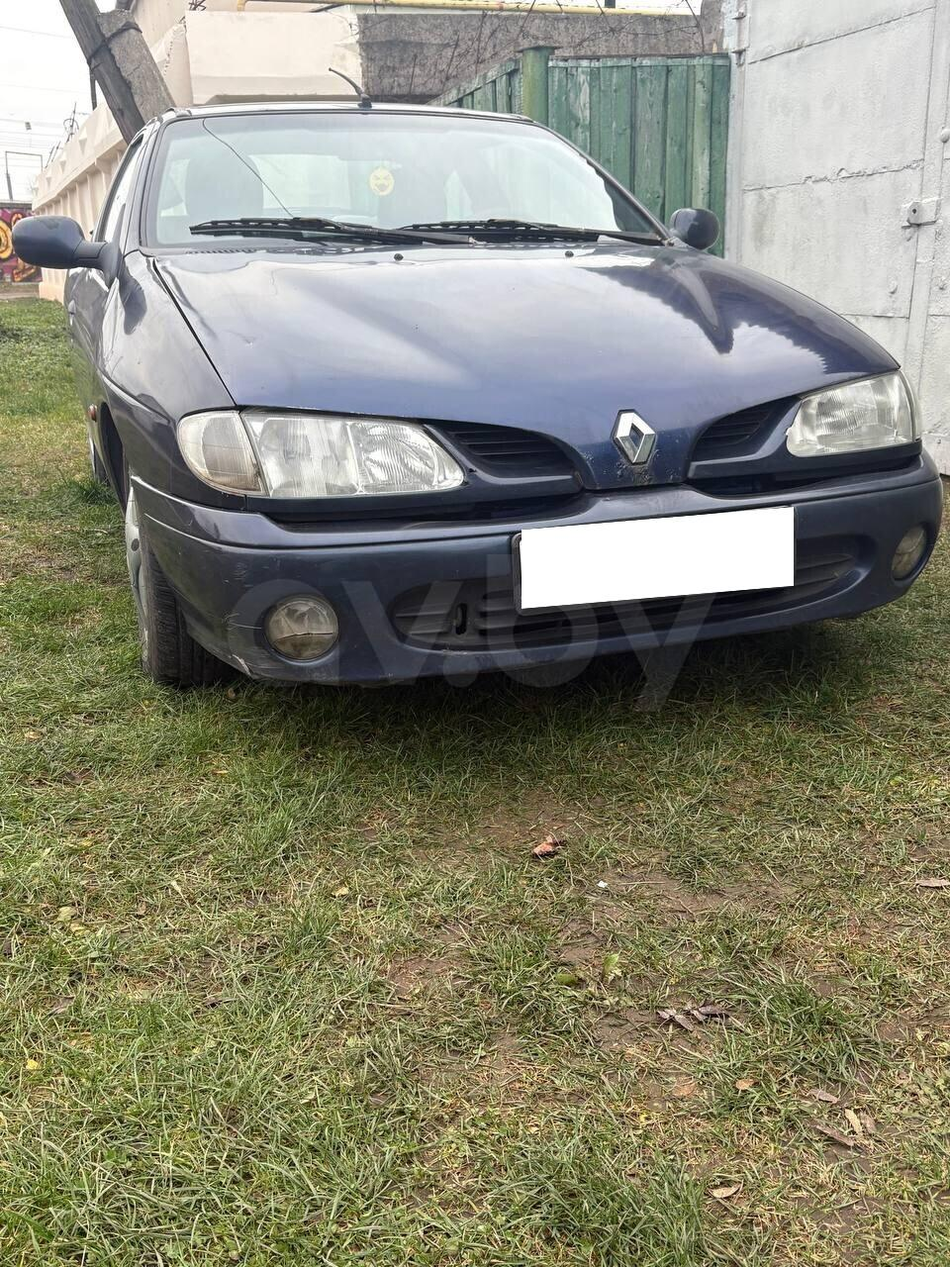Megane_1995-1999: (41, 99, 943, 744)
